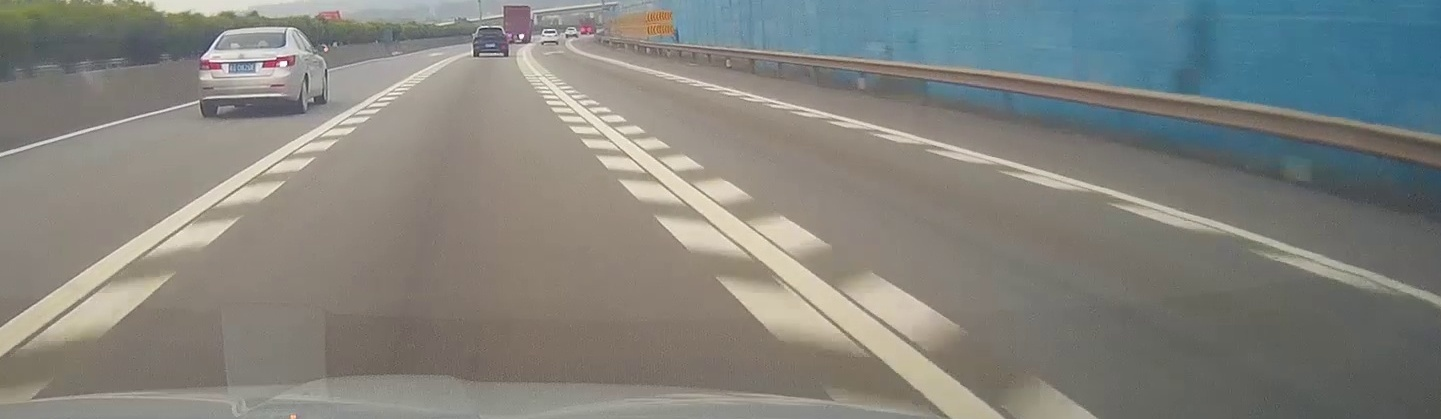L_light: (200, 59, 222, 71), (474, 35, 480, 40)
R_light: (262, 54, 296, 69), (501, 35, 507, 40)
T_light: (245, 32, 259, 36), (486, 28, 493, 30)
day-no: (473, 26, 509, 57)
day-right: (198, 26, 297, 117)
